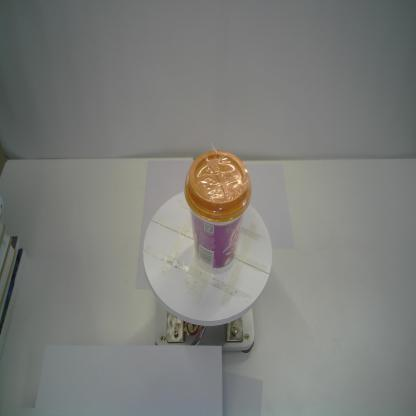Instant Drink: (184, 148, 252, 274)
